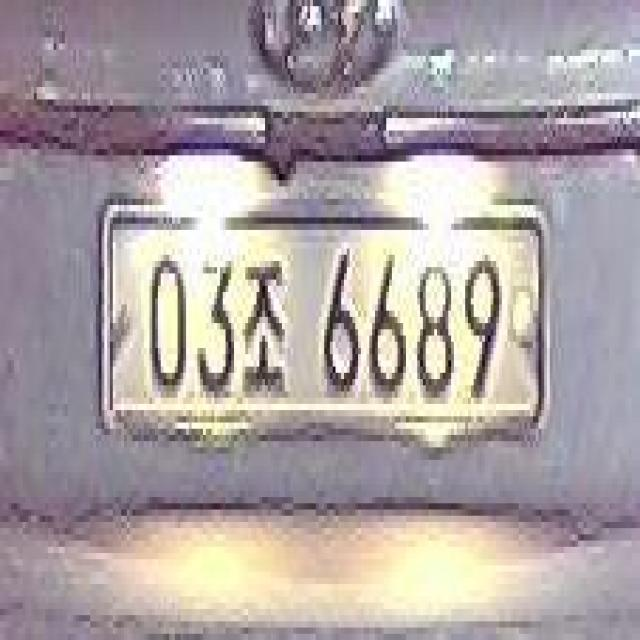illegal_plate: (97, 194, 549, 460)
